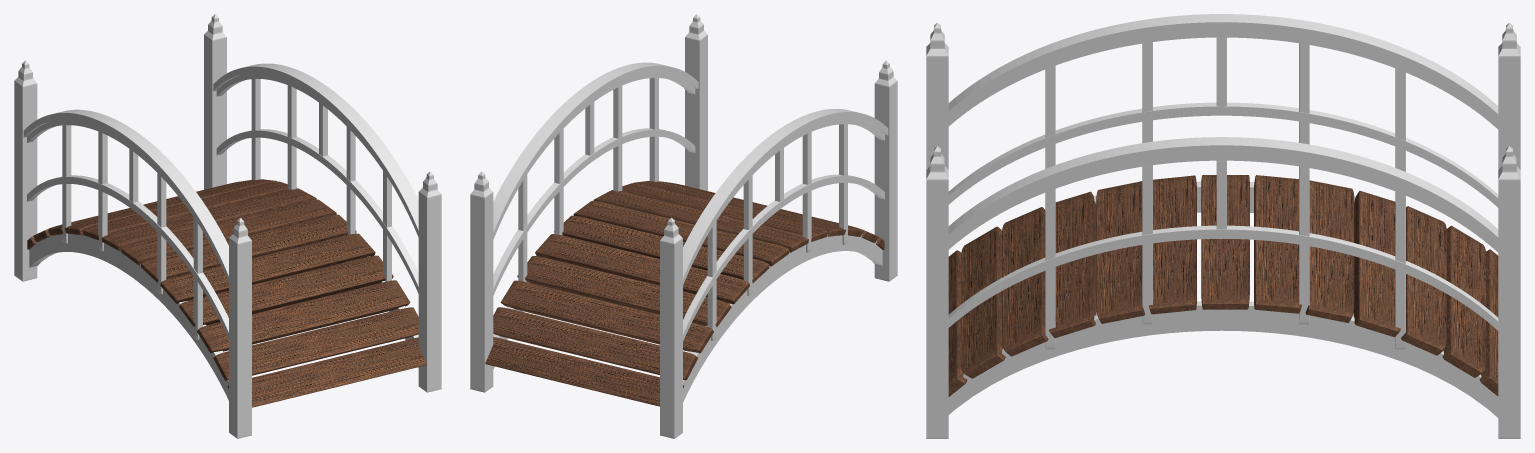
Rendered from Bridge.2.fbx.
3 renders of one model, left to right at view 1: azimuth 30°, elevation 25°; view 2: azimuth 150°, elevation 25°; view 3: azimuth 270°, elevation 25°, orthographic. The views are drawn at different scales.
Visible parts, largest first — view 1: Cube.002, Cube, Cube.022, Cube.021, Cube.006, Cube.017, Cube.001, Cube.020, Cube.009, Cube.014, Cube.018, Cube.011 (+10 smaller); view 2: Cube.002, Cube.001, Cube.021, Cube.022, Cube.006, Cube.017, Cube, Cube.020, Cube.009, Cube.014, Cube.019, Cube.011 (+10 smaller); view 3: Cube.002, Cube.003, Cube.006, Cube.017, Cube.009, Cube.014, Cube, Cube.001, Cube.016, Cube.007, Cube.022, Cube.021 (+10 smaller).
Part boxes in pixels (x1=…): Cube.002: x1=27, y1=179, x2=426, y2=407; Cube: x1=418, y1=171, x2=441, y2=392; Cube.022: x1=229, y1=217, x2=251, y2=438; Cube.021: x1=14, y1=60, x2=37, y2=281; Cube.006: x1=213, y1=63, x2=418, y2=237; Cube.017: x1=23, y1=109, x2=228, y2=282; Cube.001: x1=204, y1=14, x2=226, y2=189; Cube.020: x1=29, y1=233, x2=228, y2=400; Cube.009: x1=216, y1=129, x2=418, y2=293; Cube.014: x1=27, y1=175, x2=228, y2=339; Cube.018: x1=62, y1=125, x2=71, y2=243; Cube.011: x1=98, y1=131, x2=107, y2=251; Cube.002: x1=485, y1=180, x2=884, y2=406; Cube.001: x1=470, y1=171, x2=493, y2=392; Cube.021: x1=660, y1=217, x2=682, y2=438; Cube.022: x1=874, y1=60, x2=897, y2=281; Cube.006: x1=493, y1=62, x2=698, y2=239; Cube.017: x1=683, y1=108, x2=888, y2=285; Cube: x1=685, y1=14, x2=707, y2=190; Cube.020: x1=683, y1=234, x2=882, y2=402; Cube.009: x1=493, y1=128, x2=695, y2=295; Cube.014: x1=683, y1=174, x2=884, y2=341; Cube.019: x1=802, y1=132, x2=811, y2=252; Cube.011: x1=743, y1=175, x2=752, y2=295; Cube.002: x1=948, y1=175, x2=1498, y2=396; Cube.003: x1=948, y1=301, x2=1498, y2=417; Cube.006: x1=948, y1=137, x2=1498, y2=246; Cube.017: x1=948, y1=14, x2=1498, y2=123; Cube.009: x1=948, y1=225, x2=1498, y2=330; Cube.014: x1=948, y1=102, x2=1498, y2=207; Cube: x1=926, y1=146, x2=948, y2=438; Cube.001: x1=1498, y1=146, x2=1520, y2=438; Cube.016: x1=948, y1=31, x2=1498, y2=129; Cube.007: x1=948, y1=154, x2=1498, y2=252; Cube.022: x1=926, y1=23, x2=948, y2=169; Cube.021: x1=1498, y1=23, x2=1520, y2=169.
Bounding box in the file's own units: 219 × 226 × 415.
Materials: 3 (1 with a texture image).
